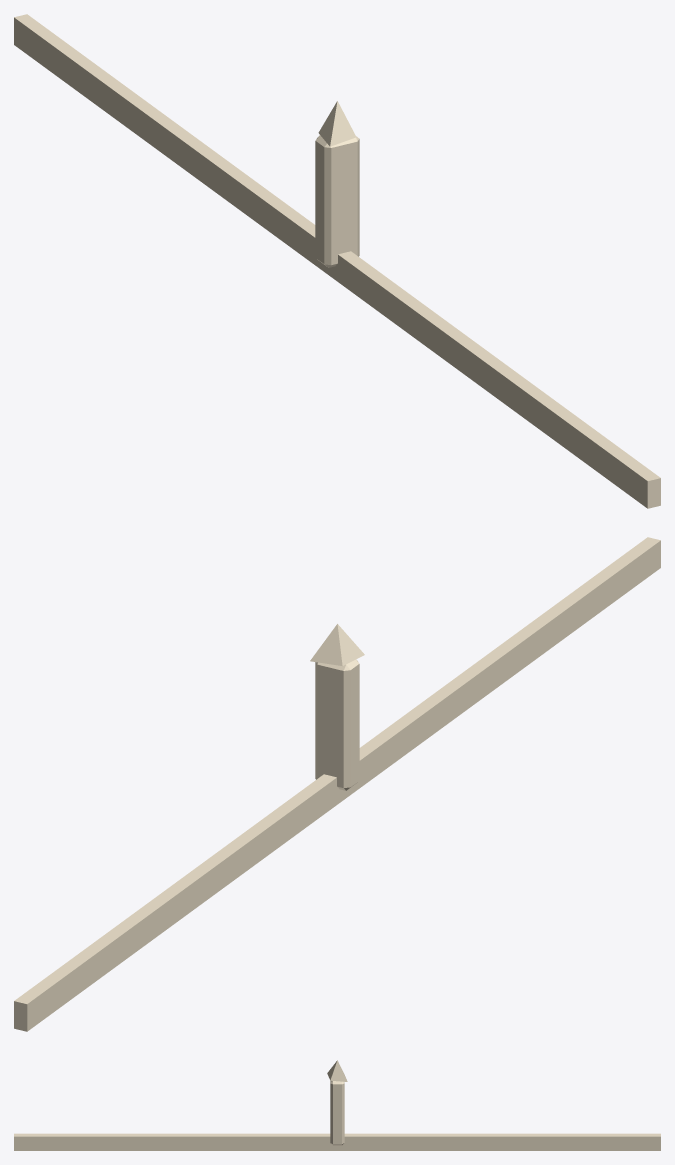
The model's file is cerca.glb.
3 views of the same model, one above another, from view 1: azimuth 30°, elevation 25°; view 2: azimuth 150°, elevation 25°; view 3: azimuth 270°, elevation 25° (orthographic). The views are drawn at different scales.
Parts seen in each view (by area): view 1: tabua, estaca; view 2: tabua, estaca; view 3: tabua, estaca.
Boxes of the visible parts, x1,y1,x2,y2 form: tabua: (14, 14, 660, 508); estaca: (315, 101, 359, 267); tabua: (14, 537, 660, 1031); estaca: (310, 624, 364, 790); tabua: (14, 1133, 660, 1150); estaca: (327, 1060, 347, 1145).
Bounding box in the file's own units: 0.032 × 0.152 × 1.
